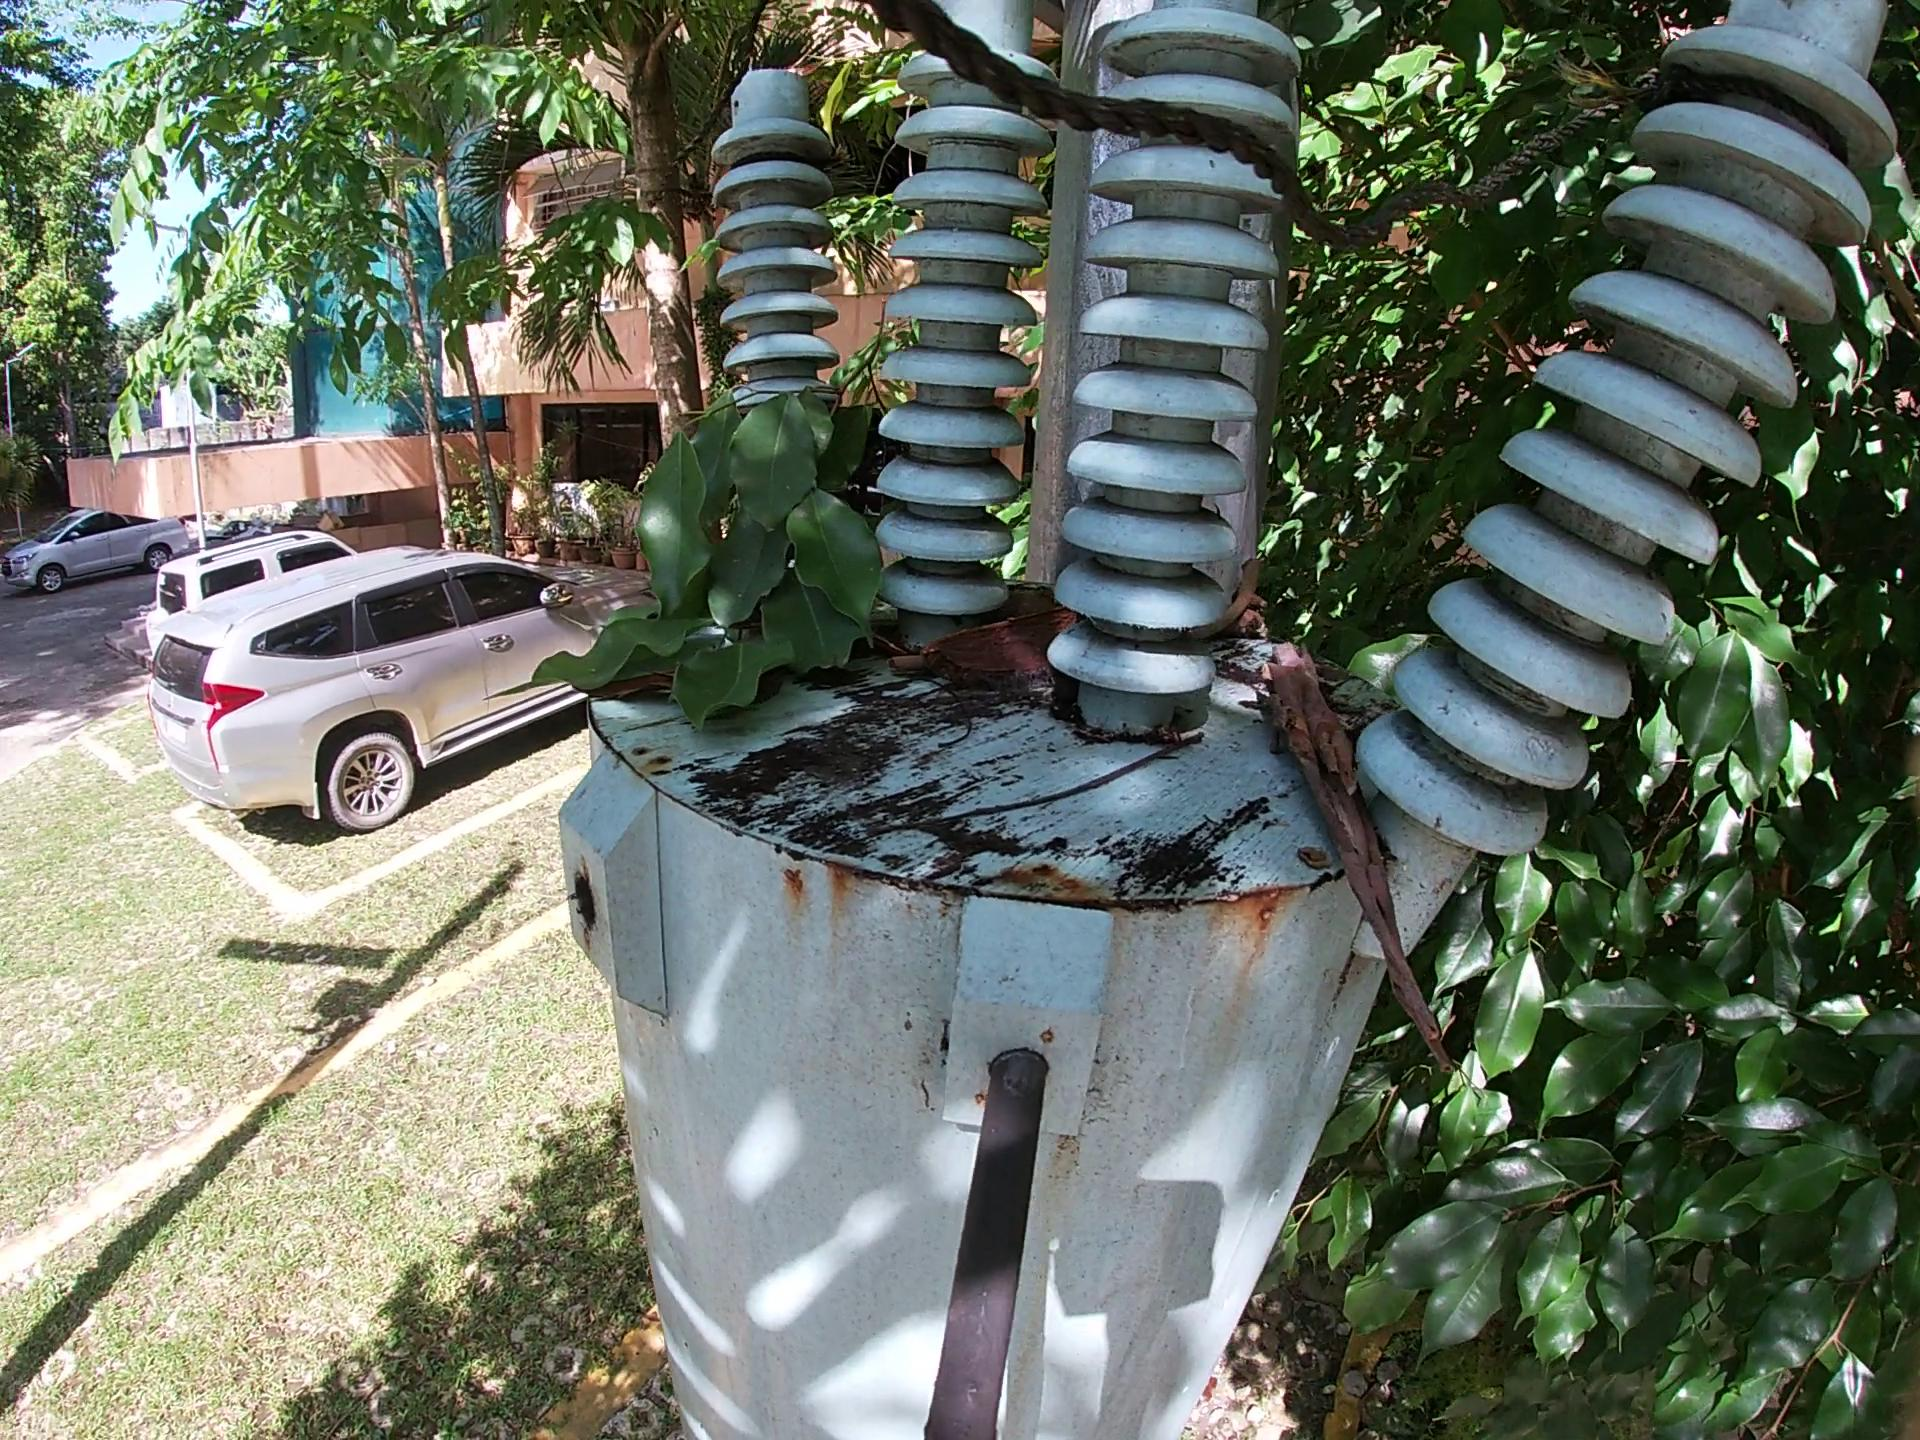branch with leaves: (513, 362, 884, 758)
mahogany fruit: (924, 605, 1079, 688), (599, 666, 686, 700)
tree branch: (1232, 625, 1482, 1094), (948, 725, 1215, 830), (919, 679, 977, 765), (980, 569, 1070, 608), (878, 643, 934, 675)
